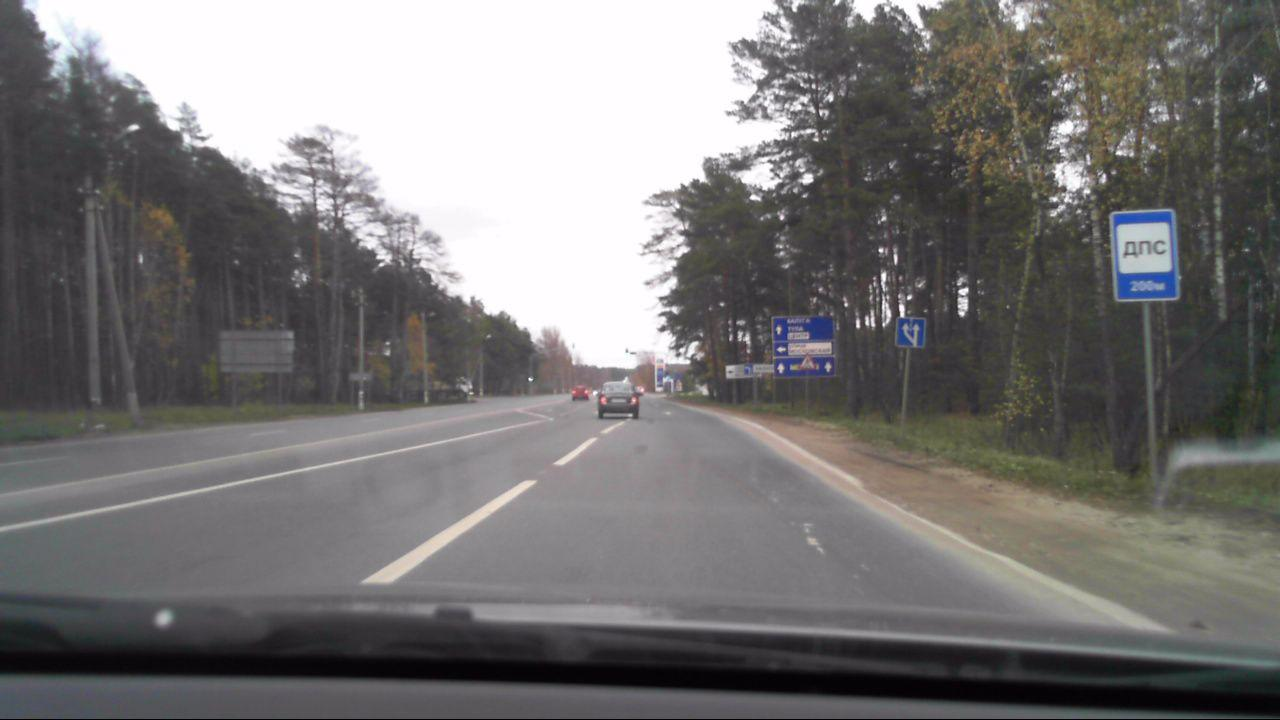1_22: (799, 353, 817, 371)
5_15_4: (896, 317, 924, 347)
6_10_1: (771, 316, 835, 376)
7_12: (1113, 209, 1180, 302)
